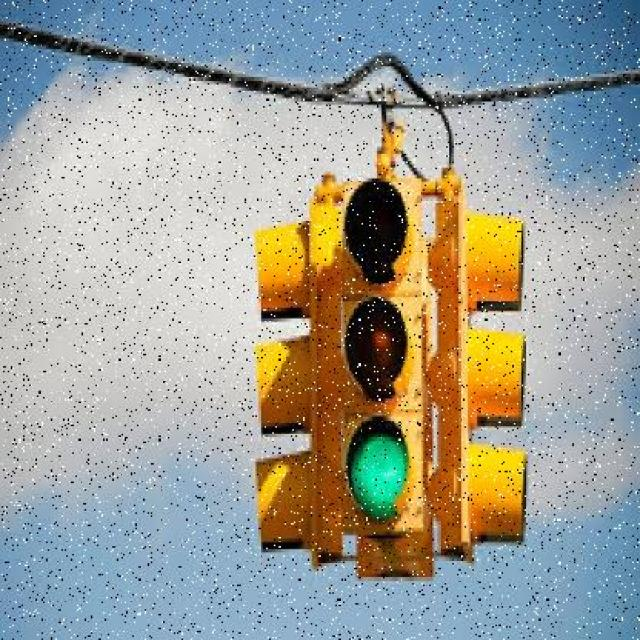green-light: (245, 158, 610, 560)
